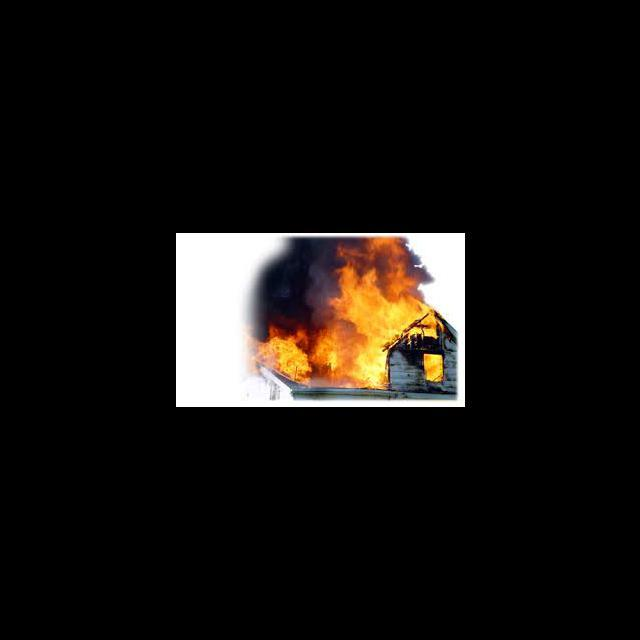Fire: (330, 235, 414, 328), (316, 328, 392, 389), (246, 328, 316, 389), (403, 308, 436, 338), (423, 354, 443, 383)
Smoke: (290, 248, 324, 324), (258, 272, 290, 322)
